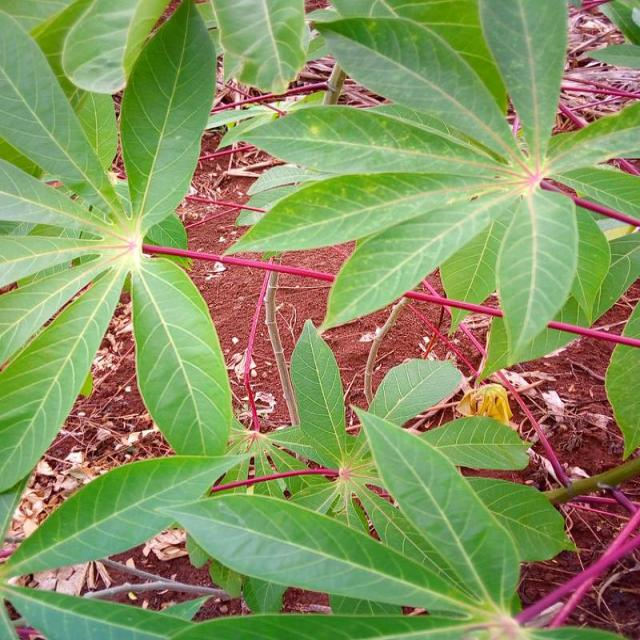cassava leaf: (0, 1, 638, 636), (219, 0, 638, 373), (348, 400, 522, 620), (130, 255, 232, 456)
